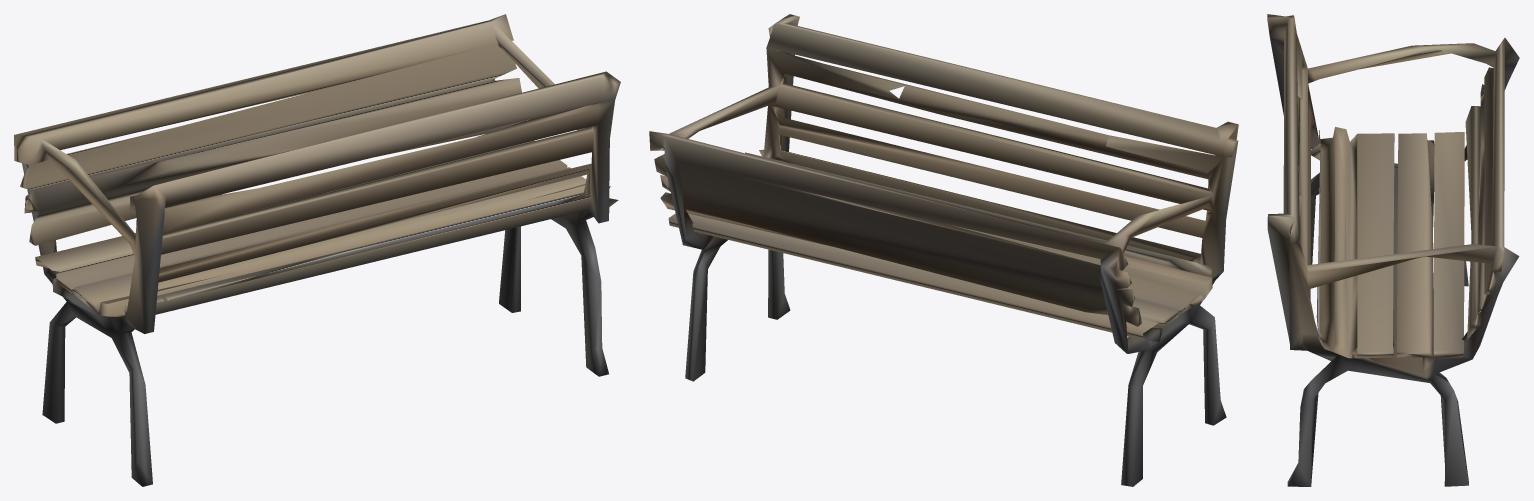
The model's file is bench_far.glb.
3 renders of one model, left to right at view 1: azimuth 30°, elevation 25°; view 2: azimuth 150°, elevation 25°; view 3: azimuth 270°, elevation 25°, orthographic. The views are drawn at different scales.
Parts seen in each view (by area): view 1: bench; view 2: bench; view 3: bench.
Boxes of the visible parts, x1,y1,x2,y2 form: bench: (14,14,620,486); bench: (649,14,1238,486); bench: (1267,14,1519,486).
Bounding box in the file's own units: 1.73 × 1 × 0.8464.
